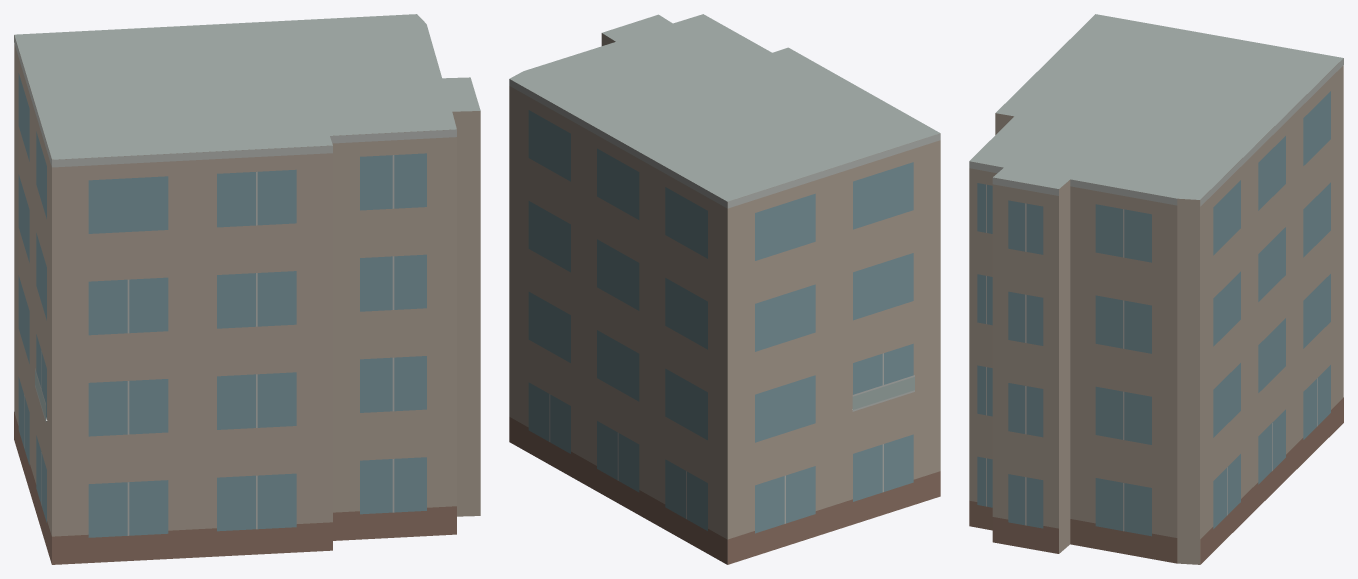
File: survey-upis-32648422.glb
The picture shows the model from 3 angles, left to right: view 1: azimuth 30°, elevation 25°; view 2: azimuth 150°, elevation 25°; view 3: azimuth 270°, elevation 25°; orthographic projection. The views are drawn at different scales.
Visible parts, largest first — view 1: survey-upis-32648422.tmp; view 2: survey-upis-32648422.tmp; view 3: survey-upis-32648422.tmp.
Boxes of the visible parts, x1=… form: survey-upis-32648422.tmp: x1=14, y1=14, x2=480, y2=564; survey-upis-32648422.tmp: x1=509, y1=14, x2=940, y2=564; survey-upis-32648422.tmp: x1=969, y1=14, x2=1343, y2=564.
Bounding box in the file's own units: 14.04 × 12.84 × 11.95.
